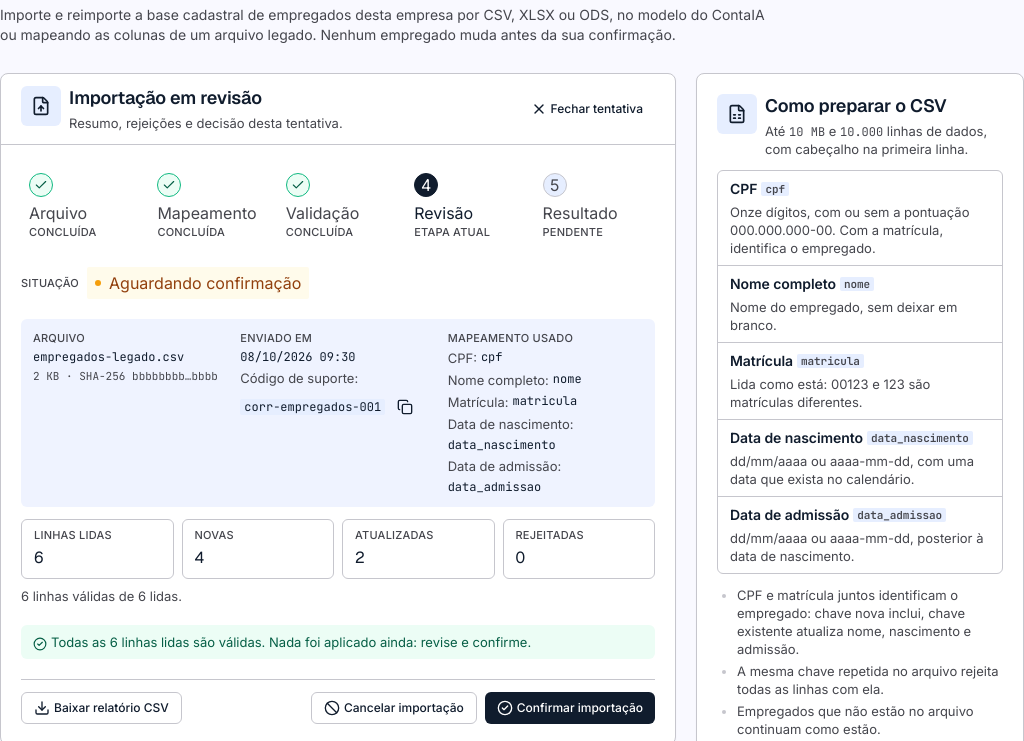
Test: confirmação › concluída: desfecho, toast de sucesso e base relida
The width and height of the screenshot is (1024, 741).
Click the button "Confirmar importação": [570, 708] box [485,692,655,724]
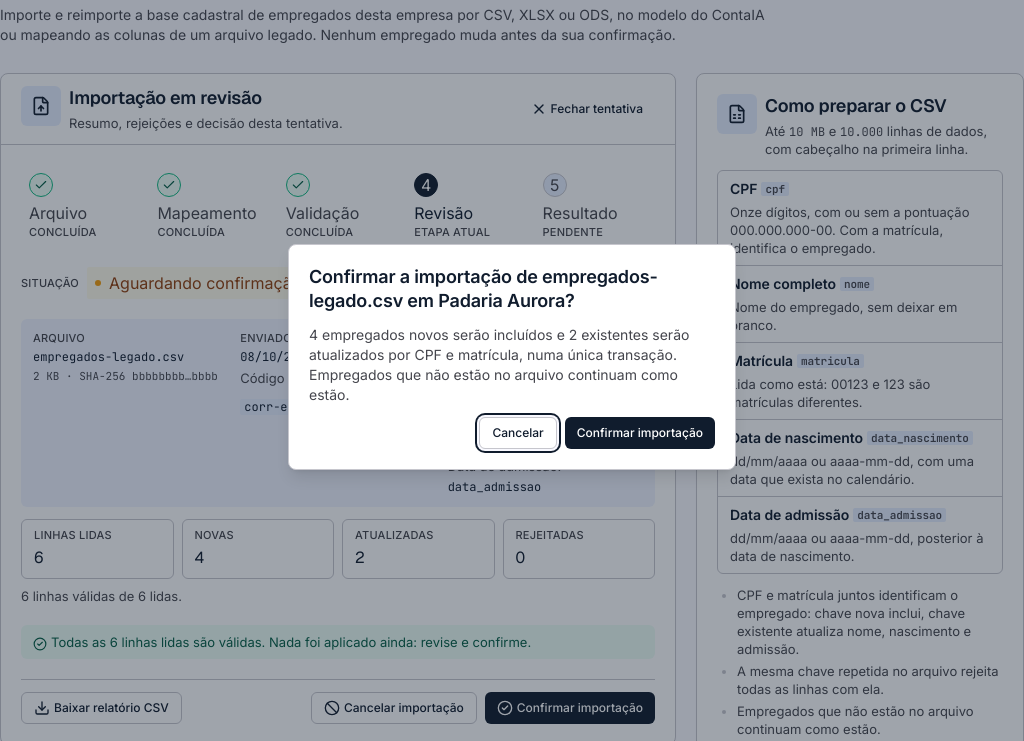
Click the button "Confirmar importação": [640, 433] box [565,417,715,449]
(page scrolled)
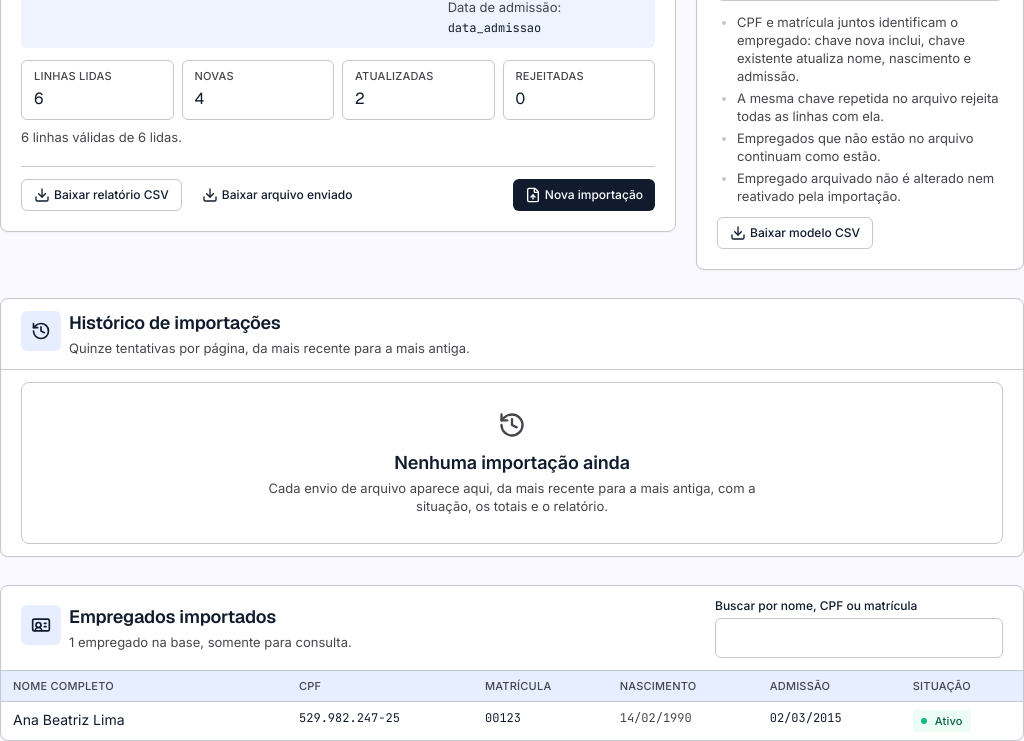
Expected: the column heading "Ana Beatriz Lima" is shown, [1,702,287,740]
